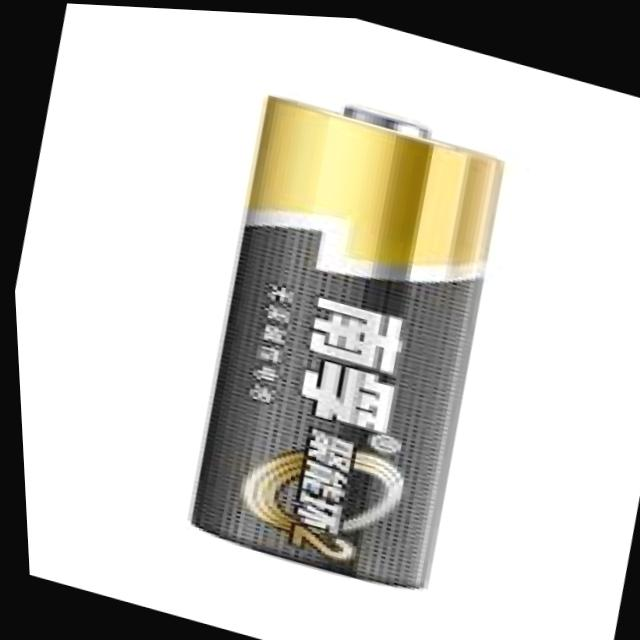B3: (134, 52, 560, 622)
